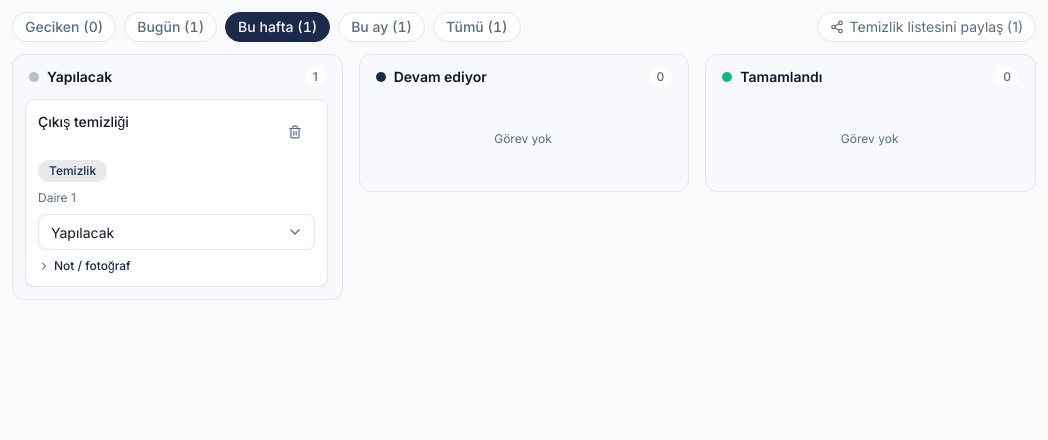
Test: TaskBoard — not kaydı görünür ve etiketli › durum seçimi ve not alanının ERİŞİLEBİLİR ADI var (görev adıyla ayrışır)
What coordinates should you click on to do the following:
click the button "Not / fotoğraf"
I would click on:
 (84, 266)
Its box is [38, 252, 131, 280].
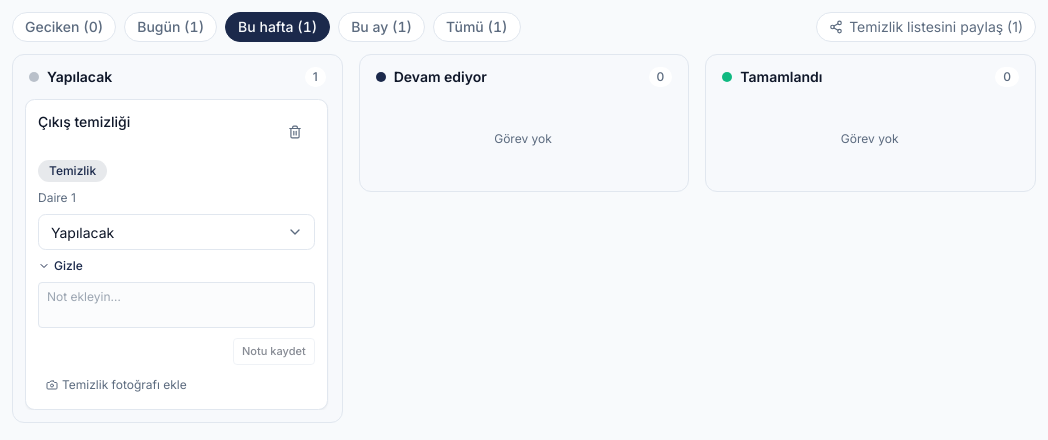
Check: the dropdown named "Görev durumu: Çıkış temizliği" is shown, box [38, 214, 315, 250]
Check: the text box named "Görev notu: Çıkış temizliği" is shown, box [38, 282, 315, 328]
